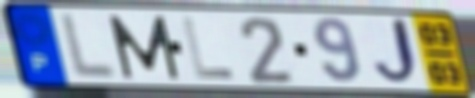2: (237, 14, 299, 86)
9: (310, 14, 365, 88)
J: (369, 15, 423, 89)
L: (58, 11, 121, 82), (179, 15, 240, 82)
M: (105, 13, 183, 81)
